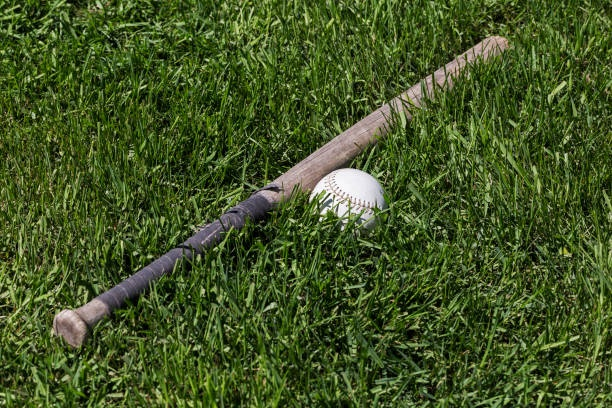bita: (48, 36, 521, 350)
